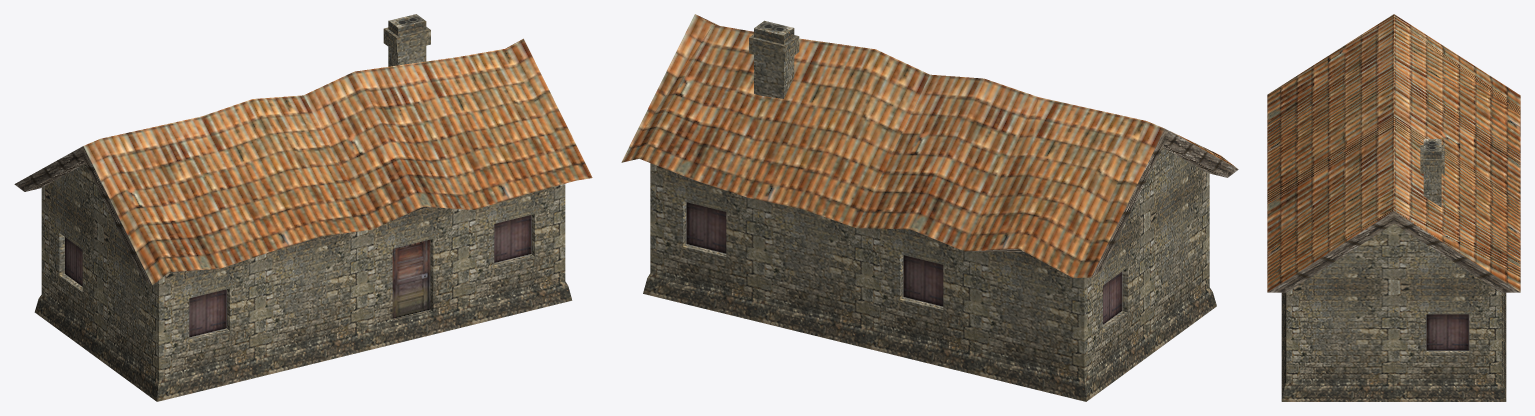
The model's file is s44_b_house_1_2.dae.
3 views of the same model, side by side, from view 1: azimuth 30°, elevation 25°; view 2: azimuth 150°, elevation 25°; view 3: azimuth 270°, elevation 25° (orthographic). The views are drawn at different scales.
Visible parts, largest first — view 1: Untitled; view 2: Untitled; view 3: Untitled.
Part boxes in pixels (x1=…): Untitled: x1=14, y1=14, x2=592, y2=401; Untitled: x1=621, y1=14, x2=1238, y2=401; Untitled: x1=1267, y1=14, x2=1520, y2=401.
Bounding box in the file's own units: 104 × 56.55 × 54.08.
1 material, 1 textured.
